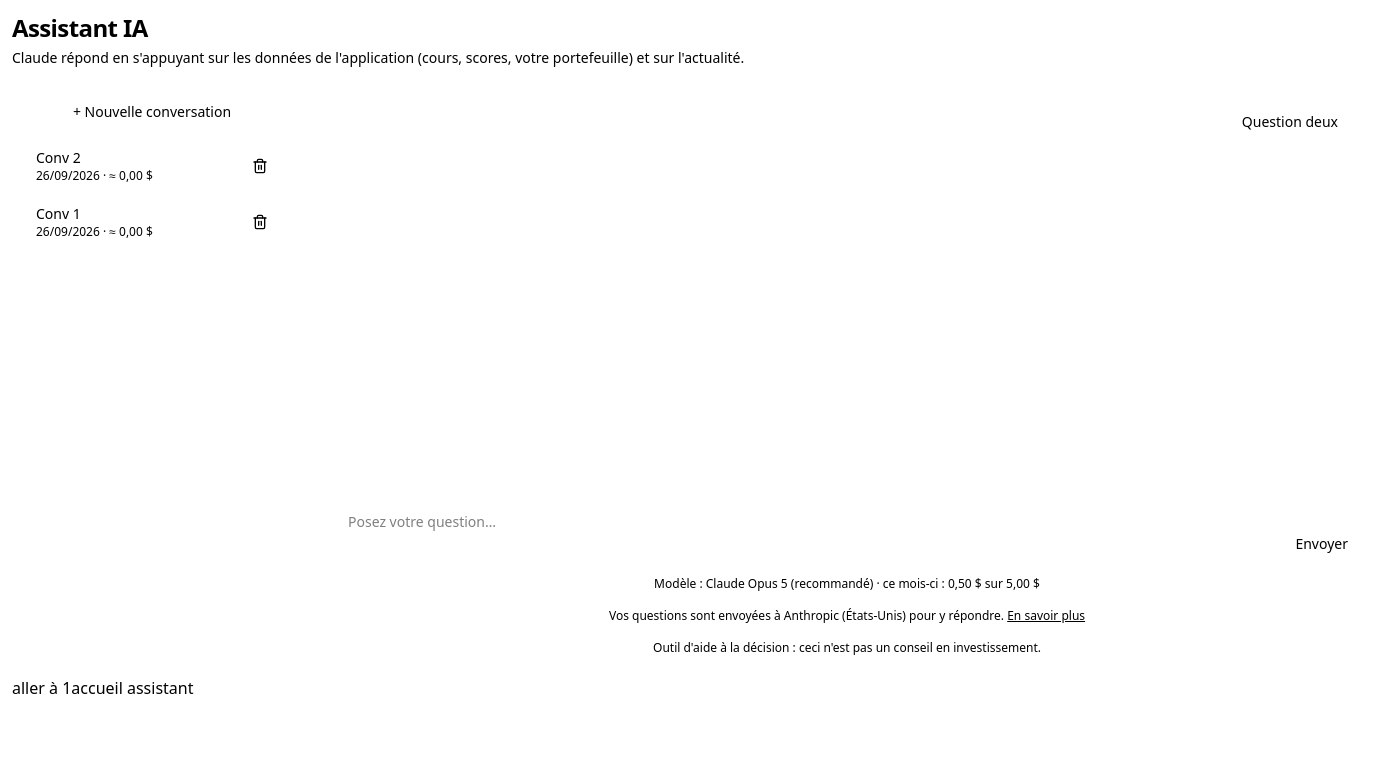
Test: suit l'adresse : lien ou retour arrière vers une autre conversation
Expected: the text "Question deux" is shown, [1242, 112, 1338, 131]
Click the link "aller à 1".
click(42, 688)  # box [12, 677, 71, 699]
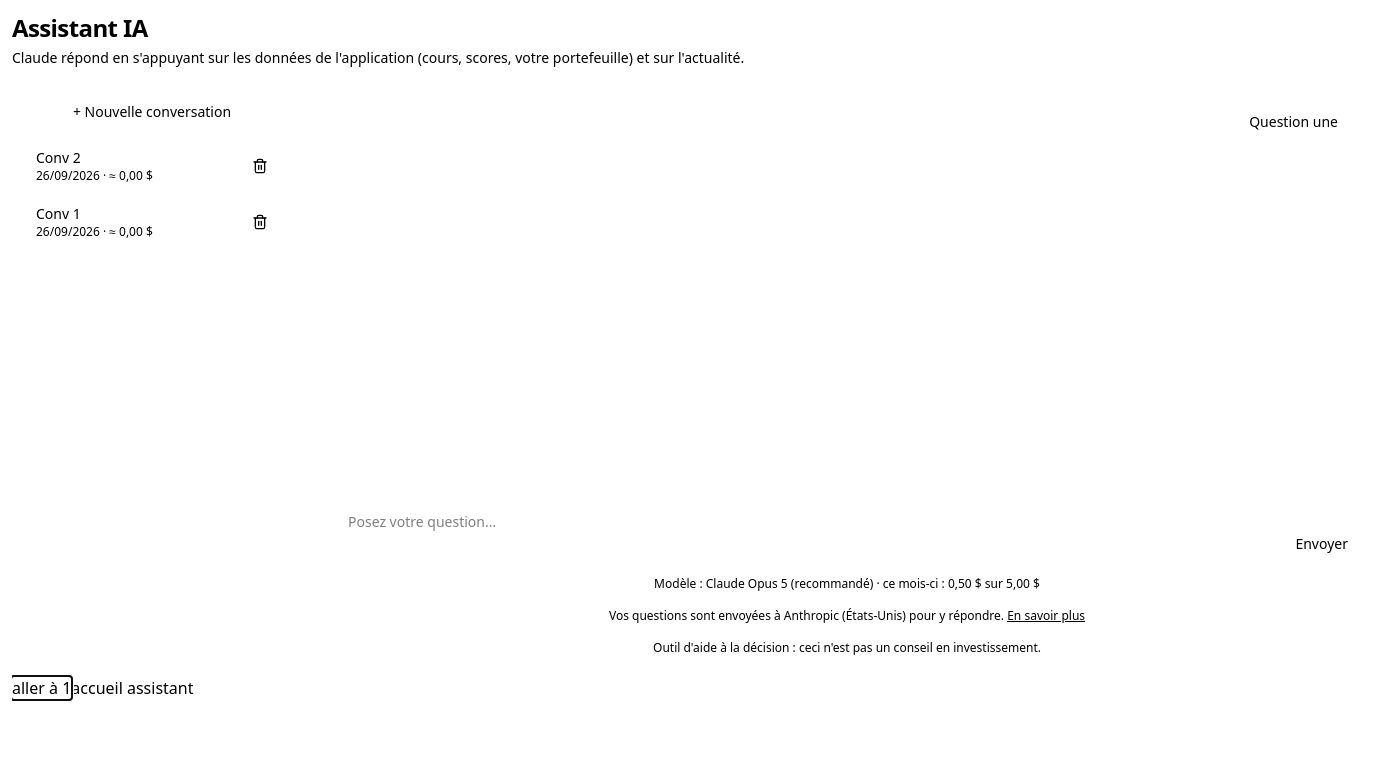
Expected: the text "Question une" is shown, [1249, 112, 1338, 131]
Expected: the text "Question deux" is gone
Click the link "accueil assistant".
click(132, 688)  # box [71, 677, 194, 699]
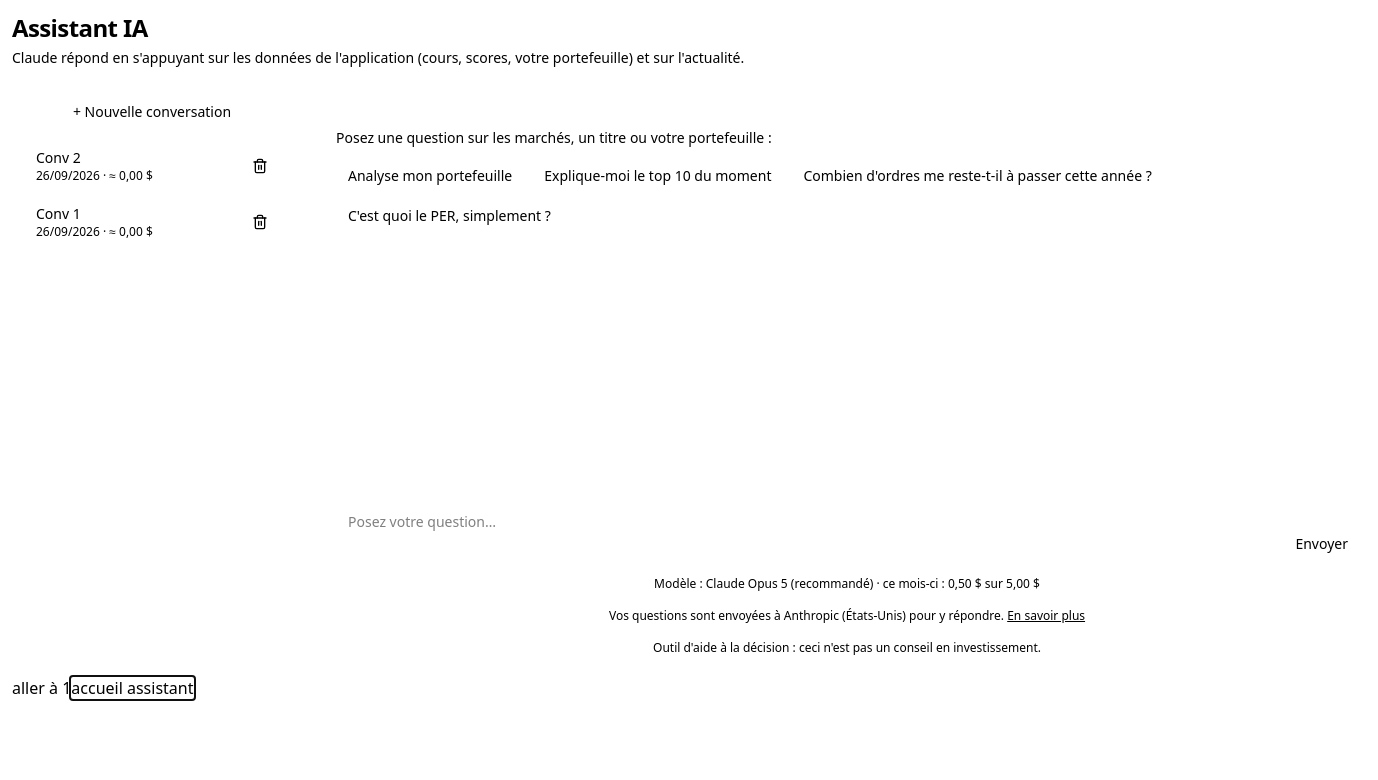
Expected: the button "Analyse mon portefeuille" is shown, [336, 160, 524, 192]
